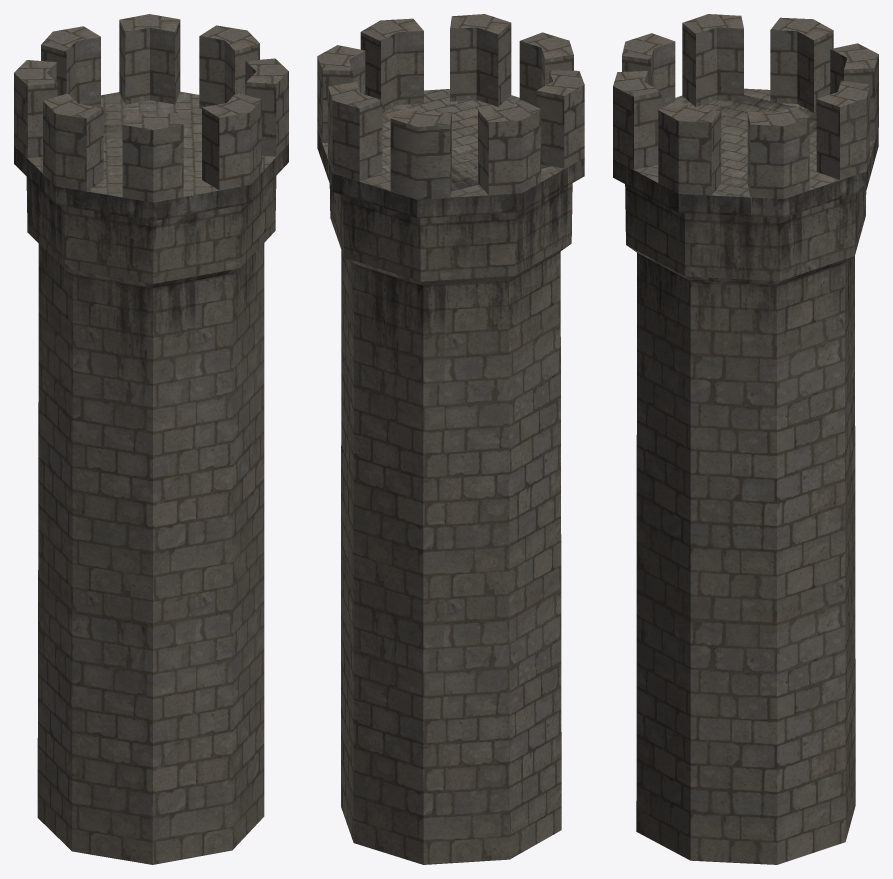
Rendered from Castle_Pillar_2.glb.
3 views of the same model, side by side, from view 1: azimuth 30°, elevation 25°; view 2: azimuth 150°, elevation 25°; view 3: azimuth 270°, elevation 25° (orthographic).
Visible parts, largest first — view 1: SM_Castle_Pillar_2; view 2: SM_Castle_Pillar_2; view 3: SM_Castle_Pillar_2.
Part boxes in pixels (x1=…): SM_Castle_Pillar_2: x1=14, y1=14, x2=288, y2=864; SM_Castle_Pillar_2: x1=317, y1=14, x2=584, y2=864; SM_Castle_Pillar_2: x1=613, y1=14, x2=878, y2=864.
Bounding box in the file's own units: 7.23 × 22.48 × 7.24.
1 material, 1 textured.
